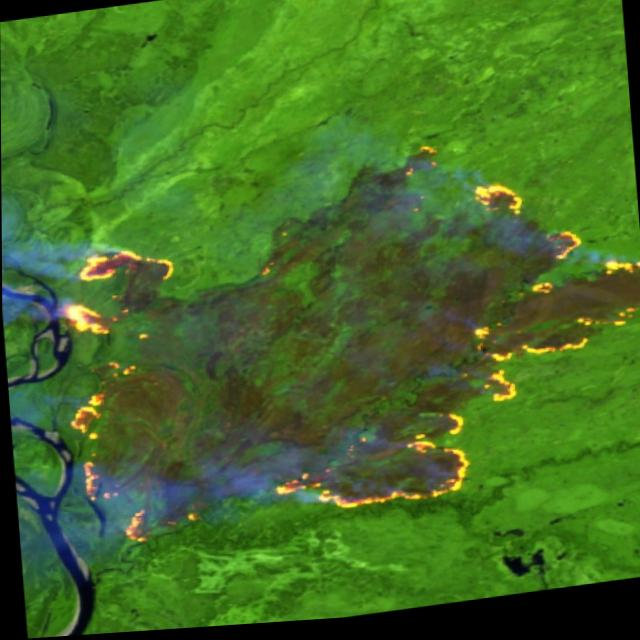fire: (43, 121, 640, 563)
